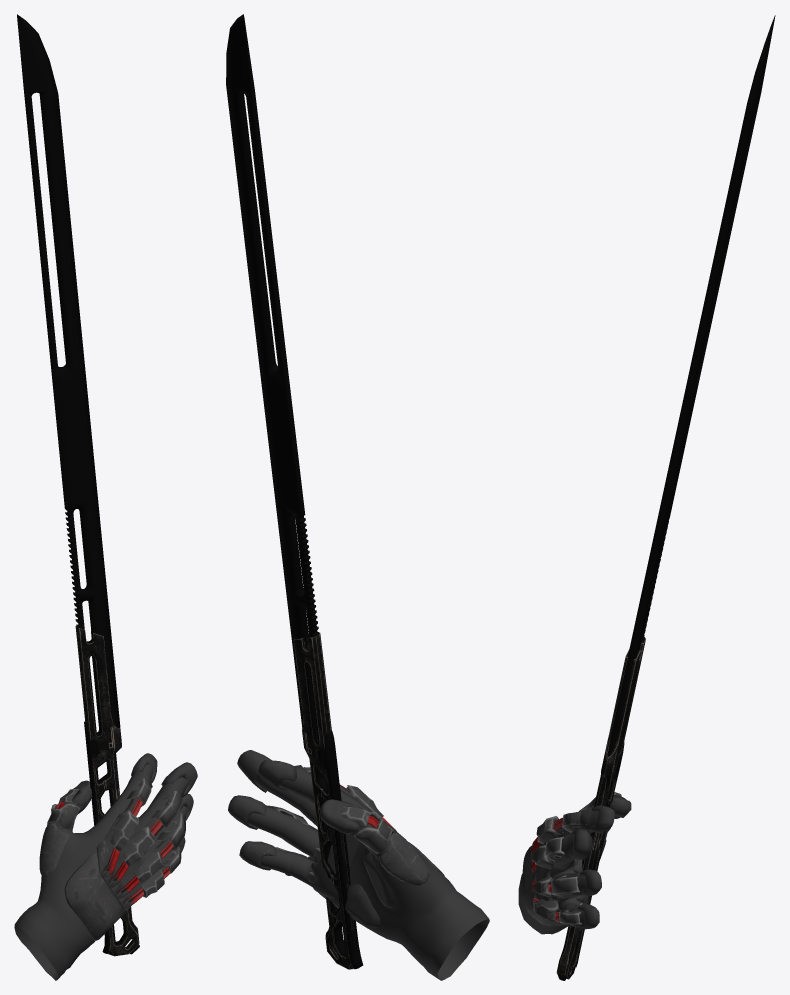
Rendered from rightHand.obj.
3 views of the same model, side by side, from view 1: azimuth 30°, elevation 25°; view 2: azimuth 150°, elevation 25°; view 3: azimuth 270°, elevation 25° (orthographic). The views are drawn at different scales.
Visible parts, largest first — view 1: desirefx_me_8_mesh0_mesh0000_007.042; view 2: desirefx_me_8_mesh0_mesh0000_007.042; view 3: desirefx_me_8_mesh0_mesh0000_007.042.
Part boxes in pixels (x1,y1,x2,y2): desirefx_me_8_mesh0_mesh0000_007.042: (14, 14, 197, 980); desirefx_me_8_mesh0_mesh0000_007.042: (226, 14, 489, 980); desirefx_me_8_mesh0_mesh0000_007.042: (518, 15, 775, 980).
Size of the model in its own units: 0.1232 by 0.5313 by 0.1292.
